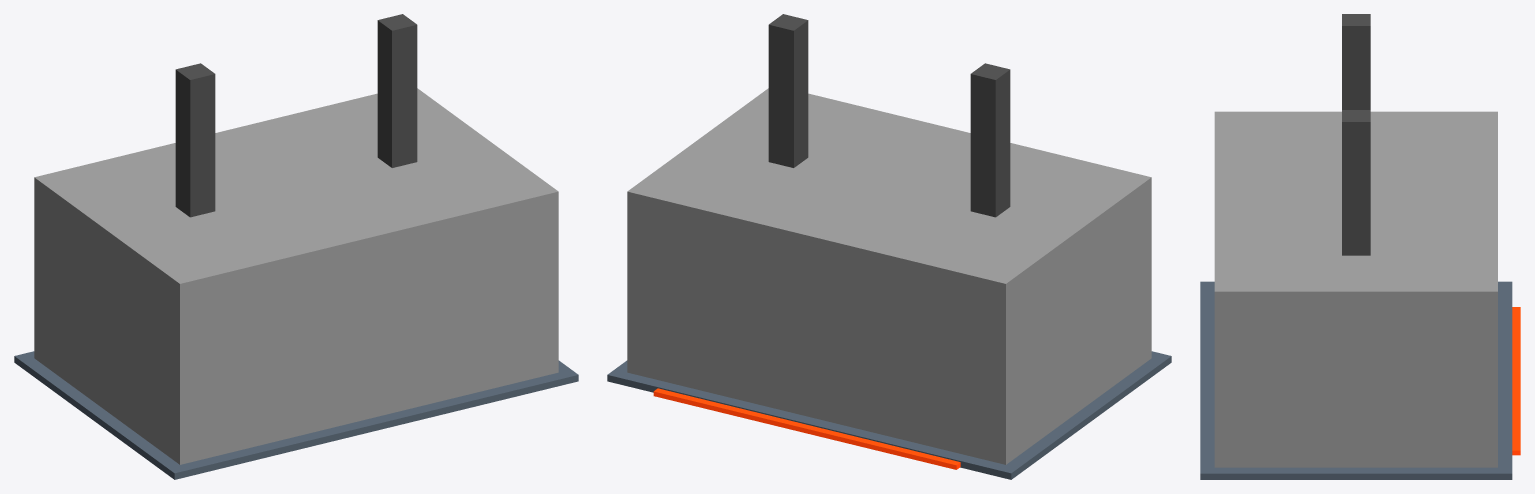
The model's file is forge_t3.glb.
3 views of the same model, side by side, from view 1: azimuth 30°, elevation 25°; view 2: azimuth 150°, elevation 25°; view 3: azimuth 270°, elevation 25° (orthographic). The views are drawn at different scales.
Parts seen in each view (by area): view 1: building-forge; view 2: building-forge; view 3: building-forge.
Boxes of the visible parts, x1,y1,x2,y2 form: building-forge: [14, 14, 578, 479]; building-forge: [607, 14, 1171, 479]; building-forge: [1200, 14, 1520, 479].
Bounding box in the file's own units: 0.2726 × 0.2096 × 0.1924.
